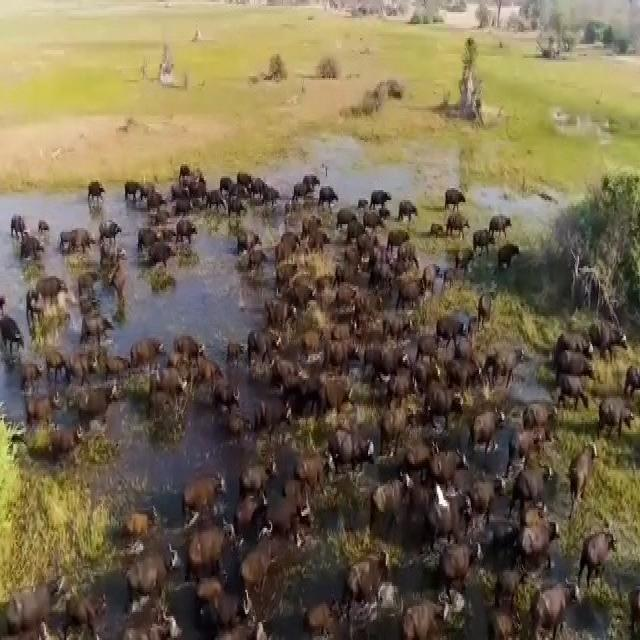Buffalo: (127, 536, 177, 601), (465, 453, 506, 532), (526, 579, 575, 640), (369, 476, 418, 535), (9, 584, 60, 640), (366, 303, 421, 351), (346, 559, 392, 616), (238, 539, 277, 606), (579, 523, 618, 589), (150, 368, 191, 428), (317, 420, 372, 464), (272, 492, 313, 551), (186, 529, 237, 570), (527, 379, 563, 436), (594, 304, 628, 364), (205, 610, 272, 640), (556, 338, 597, 387), (228, 456, 279, 495), (505, 423, 546, 471), (422, 382, 466, 426), (428, 493, 471, 536), (516, 462, 554, 510), (256, 379, 288, 436), (602, 394, 636, 446), (319, 368, 356, 412), (400, 276, 440, 316), (486, 350, 528, 388), (571, 436, 593, 506), (75, 384, 117, 420), (64, 211, 92, 264), (408, 602, 447, 640), (293, 602, 332, 640), (440, 174, 471, 220), (436, 550, 483, 580), (205, 375, 239, 416), (126, 327, 162, 365), (473, 403, 504, 447), (183, 475, 227, 505), (286, 459, 342, 482), (67, 600, 106, 632), (293, 270, 319, 318), (526, 516, 556, 557), (372, 348, 413, 378), (67, 340, 102, 374), (21, 350, 43, 402), (500, 562, 526, 604), (176, 328, 208, 362), (382, 402, 414, 436), (264, 298, 296, 330), (219, 411, 252, 442), (19, 232, 47, 268), (140, 235, 167, 272), (242, 253, 273, 285), (35, 276, 69, 305), (233, 222, 260, 258), (441, 220, 473, 250), (431, 446, 459, 479), (333, 208, 361, 240), (332, 312, 356, 349), (240, 499, 270, 528), (270, 225, 299, 255), (487, 213, 516, 242), (310, 217, 333, 253), (21, 396, 60, 417), (286, 180, 306, 219), (270, 339, 295, 370), (0, 313, 22, 347), (180, 175, 211, 199), (486, 609, 510, 640), (438, 314, 466, 338), (231, 325, 251, 358), (370, 186, 399, 208), (303, 165, 322, 198), (175, 222, 199, 247), (43, 350, 66, 372), (334, 284, 356, 306), (384, 229, 408, 249), (480, 288, 492, 328), (218, 185, 245, 202), (625, 364, 640, 394), (399, 199, 416, 223), (142, 179, 160, 201), (124, 176, 142, 196), (279, 266, 298, 283), (88, 179, 100, 205)
